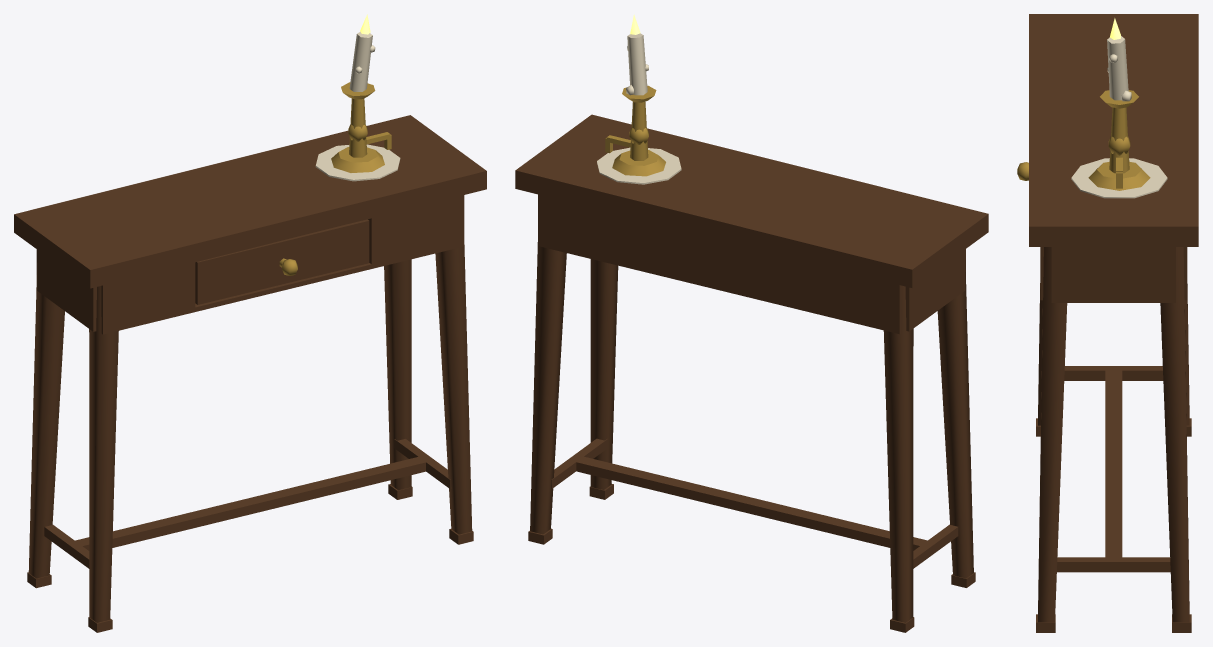
Rendered from Wandtafel.glb.
3 renders of one model, left to right at view 1: azimuth 30°, elevation 25°; view 2: azimuth 150°, elevation 25°; view 3: azimuth 270°, elevation 25°, orthographic. The views are drawn at different scales.
Visible parts, largest first — view 1: BodyMerged, Top, Drawer, CandleStick, Doily, CandleWax; view 2: BodyMerged, Top, CandleStick, Doily, CandleWax; view 3: Top, BodyMerged, CandleStick, Doily, CandleWax.
Boxes of the visible parts, x1,y1,x2,y2 form: BodyMerged: (27, 195, 473, 632); Top: (14, 115, 486, 288); Drawer: (195, 219, 369, 304); CandleStick: (331, 82, 391, 172); Doily: (315, 144, 400, 181); CandleWax: (349, 31, 375, 91); BodyMerged: (528, 194, 975, 632); Top: (515, 114, 988, 287); CandleStick: (605, 85, 665, 176); Doily: (597, 147, 681, 184); CandleWax: (626, 33, 648, 95); Top: (1029, 14, 1198, 246); BodyMerged: (1036, 247, 1191, 632); CandleStick: (1088, 90, 1150, 190); Doily: (1071, 158, 1167, 198); CandleWax: (1107, 36, 1131, 101).
Size of the model in its own units: 0.9002 by 1.12 by 0.3206.
